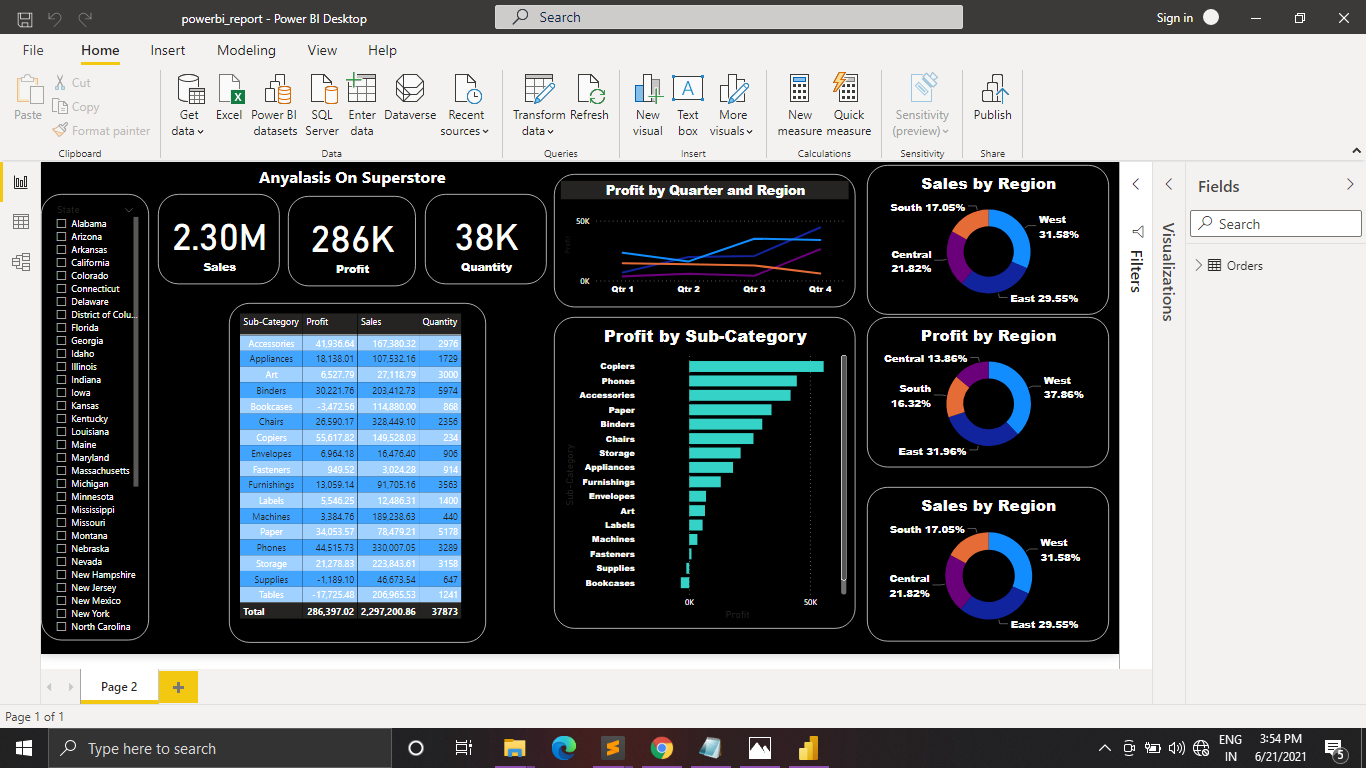

This screenshot's page, from the dashboard's own definition file:
{"tool":"powerbi","page":{"name":"Page 2","canvas":[1577,720],"ordinal":0},"visuals":[{"type":"textbox","box":[9.9,0,890.4,48.3],"z":0},{"type":"donutChart","fields":{"Y":["Sum(Orders.Sales)"],"Category":["Orders.Region"]},"box":[1209,5.1,354.4,218.7],"z":1000},{"type":"donutChart","fields":{"Category":["Orders.Region"],"Y":["Sum(Orders.Profit)"]},"box":[1209,227.2,354.4,220.4],"z":2000},{"type":"donutChart","fields":{"Y":["Sum(Orders.Sales)"],"Category":["Orders.Region"]},"box":[1209,474.8,354.4,225.5],"z":3000},{"type":"barChart","fields":{"Category":["Orders.Sub-Category"],"Y":["Sum(Orders.Profit)"]},"box":[751.2,227.2,440.9,456.1],"z":4000},{"type":"lineChart","fields":{"Y":["Sum(Orders.Profit)"],"Category":["Orders.Order Date.Variation.Date Hierarchy.Quarter"],"Series":["Orders.Region"]},"box":[751.2,17,440.9,195],"z":5000},{"type":"card","fields":{"Values":["Sum(Orders.Sales)"]},"box":[171.3,47.5,178,132.3],"z":6000},{"type":"card","fields":{"Values":["Sum(Orders.Profit)"]},"box":[361.2,49.2,186.5,132.3],"z":7000},{"type":"card","fields":{"Values":["Sum(Orders.Quantity)"]},"box":[561.3,47.5,178,132.3],"z":8000},{"type":"slicer","fields":{"Values":["Orders.State"]},"box":[0,47.5,157.7,652.8],"z":9000},{"type":"tableEx","fields":{"Values":["Orders.Sub-Category","Sum(Orders.Profit)","Sum(Orders.Sales)","Sum(Orders.Quantity)"]},"box":[274.7,206.9,376.4,496.8],"z":10000}]}

Visuals, with their boxes on the page's 1577x720 design canvas (x1, y1, x2, y2). These are canvas units, not pixel positions in the 1366x768 screenshot, which may show the page scaled, cropped or inside an application window:
textbox: detection(10, 0, 900, 48)
donutChart - Sum(Orders.Sales) x Orders.Region: detection(1209, 5, 1563, 224)
donutChart - Orders.Region x Sum(Orders.Profit): detection(1209, 227, 1563, 448)
donutChart - Sum(Orders.Sales) x Orders.Region: detection(1209, 475, 1563, 700)
barChart - Orders.Sub-Category x Sum(Orders.Profit): detection(751, 227, 1192, 683)
lineChart - Sum(Orders.Profit) x Orders.Order Date.Variation.Date Hierarchy.Quarter: detection(751, 17, 1192, 212)
card - Sum(Orders.Sales): detection(171, 48, 349, 180)
card - Sum(Orders.Profit): detection(361, 49, 548, 182)
card - Sum(Orders.Quantity): detection(561, 48, 739, 180)
slicer - Orders.State: detection(0, 48, 158, 700)
tableEx - Orders.Sub-Category x Sum(Orders.Profit): detection(275, 207, 651, 704)
